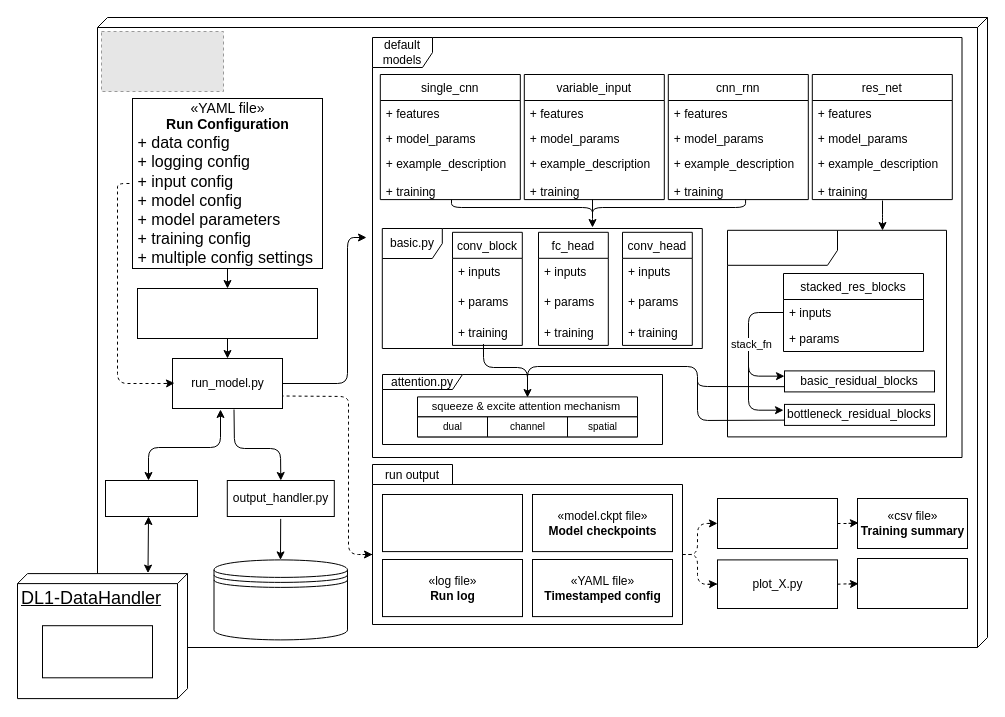
This 1005x717 diagram has some shape labels left out. Grey dashed boxes stand in for pictures. Here are the shapes that lost their labels. From the top down, the centre of each, then its label:
the point at 227,313: run_multiple_configurations.py
the point at 836,333: resnet_engine.py
the point at 151,498: data_loader.py
the point at 452,523: «events.out file» Tensorboard file
the point at 777,523: summarize_results.py
the point at 280,599: «hdf5 file» Predictions
the point at 912,583: «pdf file» Training plots
the point at 97,651: DL1DataReader
